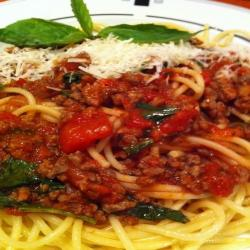bolonese_pasta: (3, 39, 245, 237)
